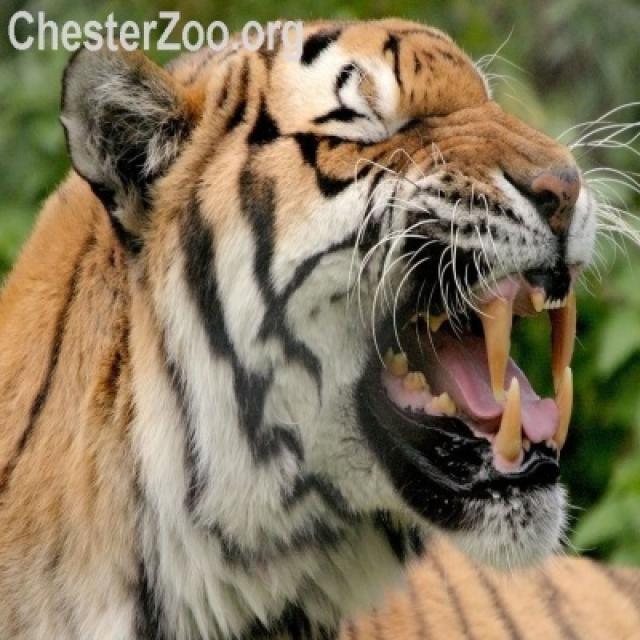Tiger: (9, 23, 638, 638)
